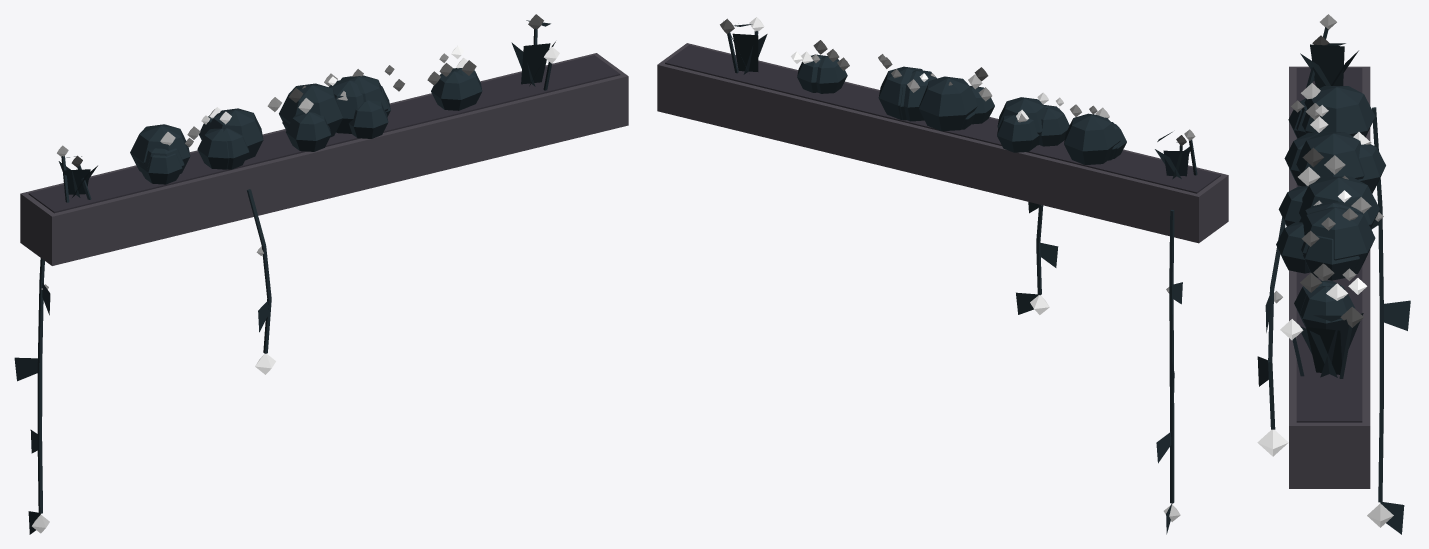
The model's file is planter_trough_c.glb.
3 views of the same model, side by side, from view 1: azimuth 30°, elevation 25°; view 2: azimuth 150°, elevation 25°; view 3: azimuth 270°, elevation 25° (orthographic). The views are drawn at different scales.
Visible parts, largest first — view 1: planter_trough_c; view 2: planter_trough_c; view 3: planter_trough_c.
Boxes of the visible parts, left/top/right/bottom form: planter_trough_c: left=14, top=14, right=628, bottom=534; planter_trough_c: left=657, top=17, right=1228, bottom=534; planter_trough_c: left=1257, top=14, right=1410, bottom=534.
Bounding box in the file's own units: 4.4 × 3.04 × 0.8142.
4 materials, 1 textured.
